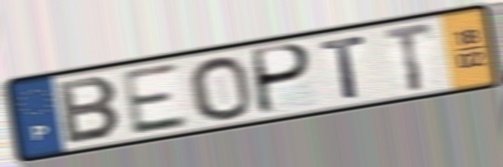B: (55, 74, 125, 147)
E: (118, 61, 193, 139)
O: (185, 54, 256, 122)
P: (252, 42, 316, 118)
T: (380, 20, 436, 94), (318, 33, 370, 102)
